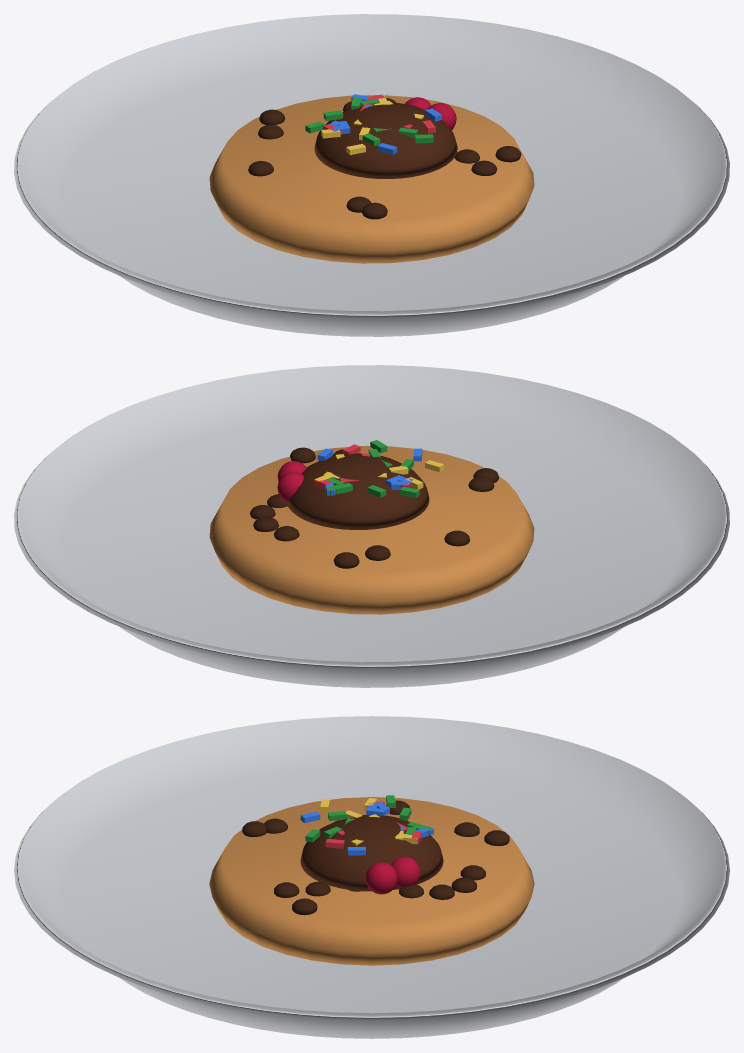
Rendered from alba-crumbl-cookies.glb.
The picture shows the model from 3 angles, top to bottom: view 1: azimuth 30°, elevation 25°; view 2: azimuth 150°, elevation 25°; view 3: azimuth 270°, elevation 25°; orthographic projection.
Bounding box in the file's own units: 0.22 × 0.0325 × 0.22.
